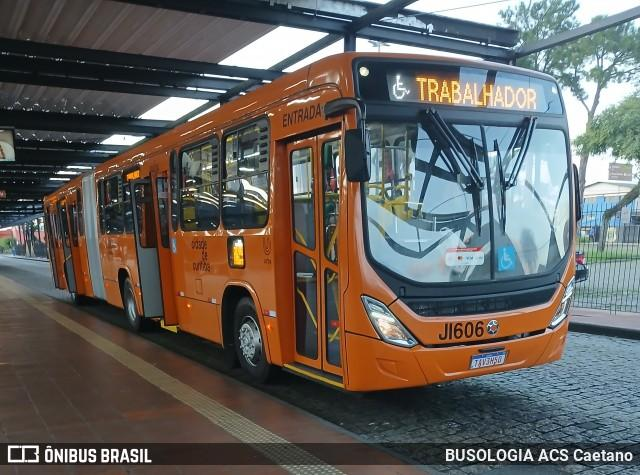TRABALHADOR: (411, 73, 541, 119)
